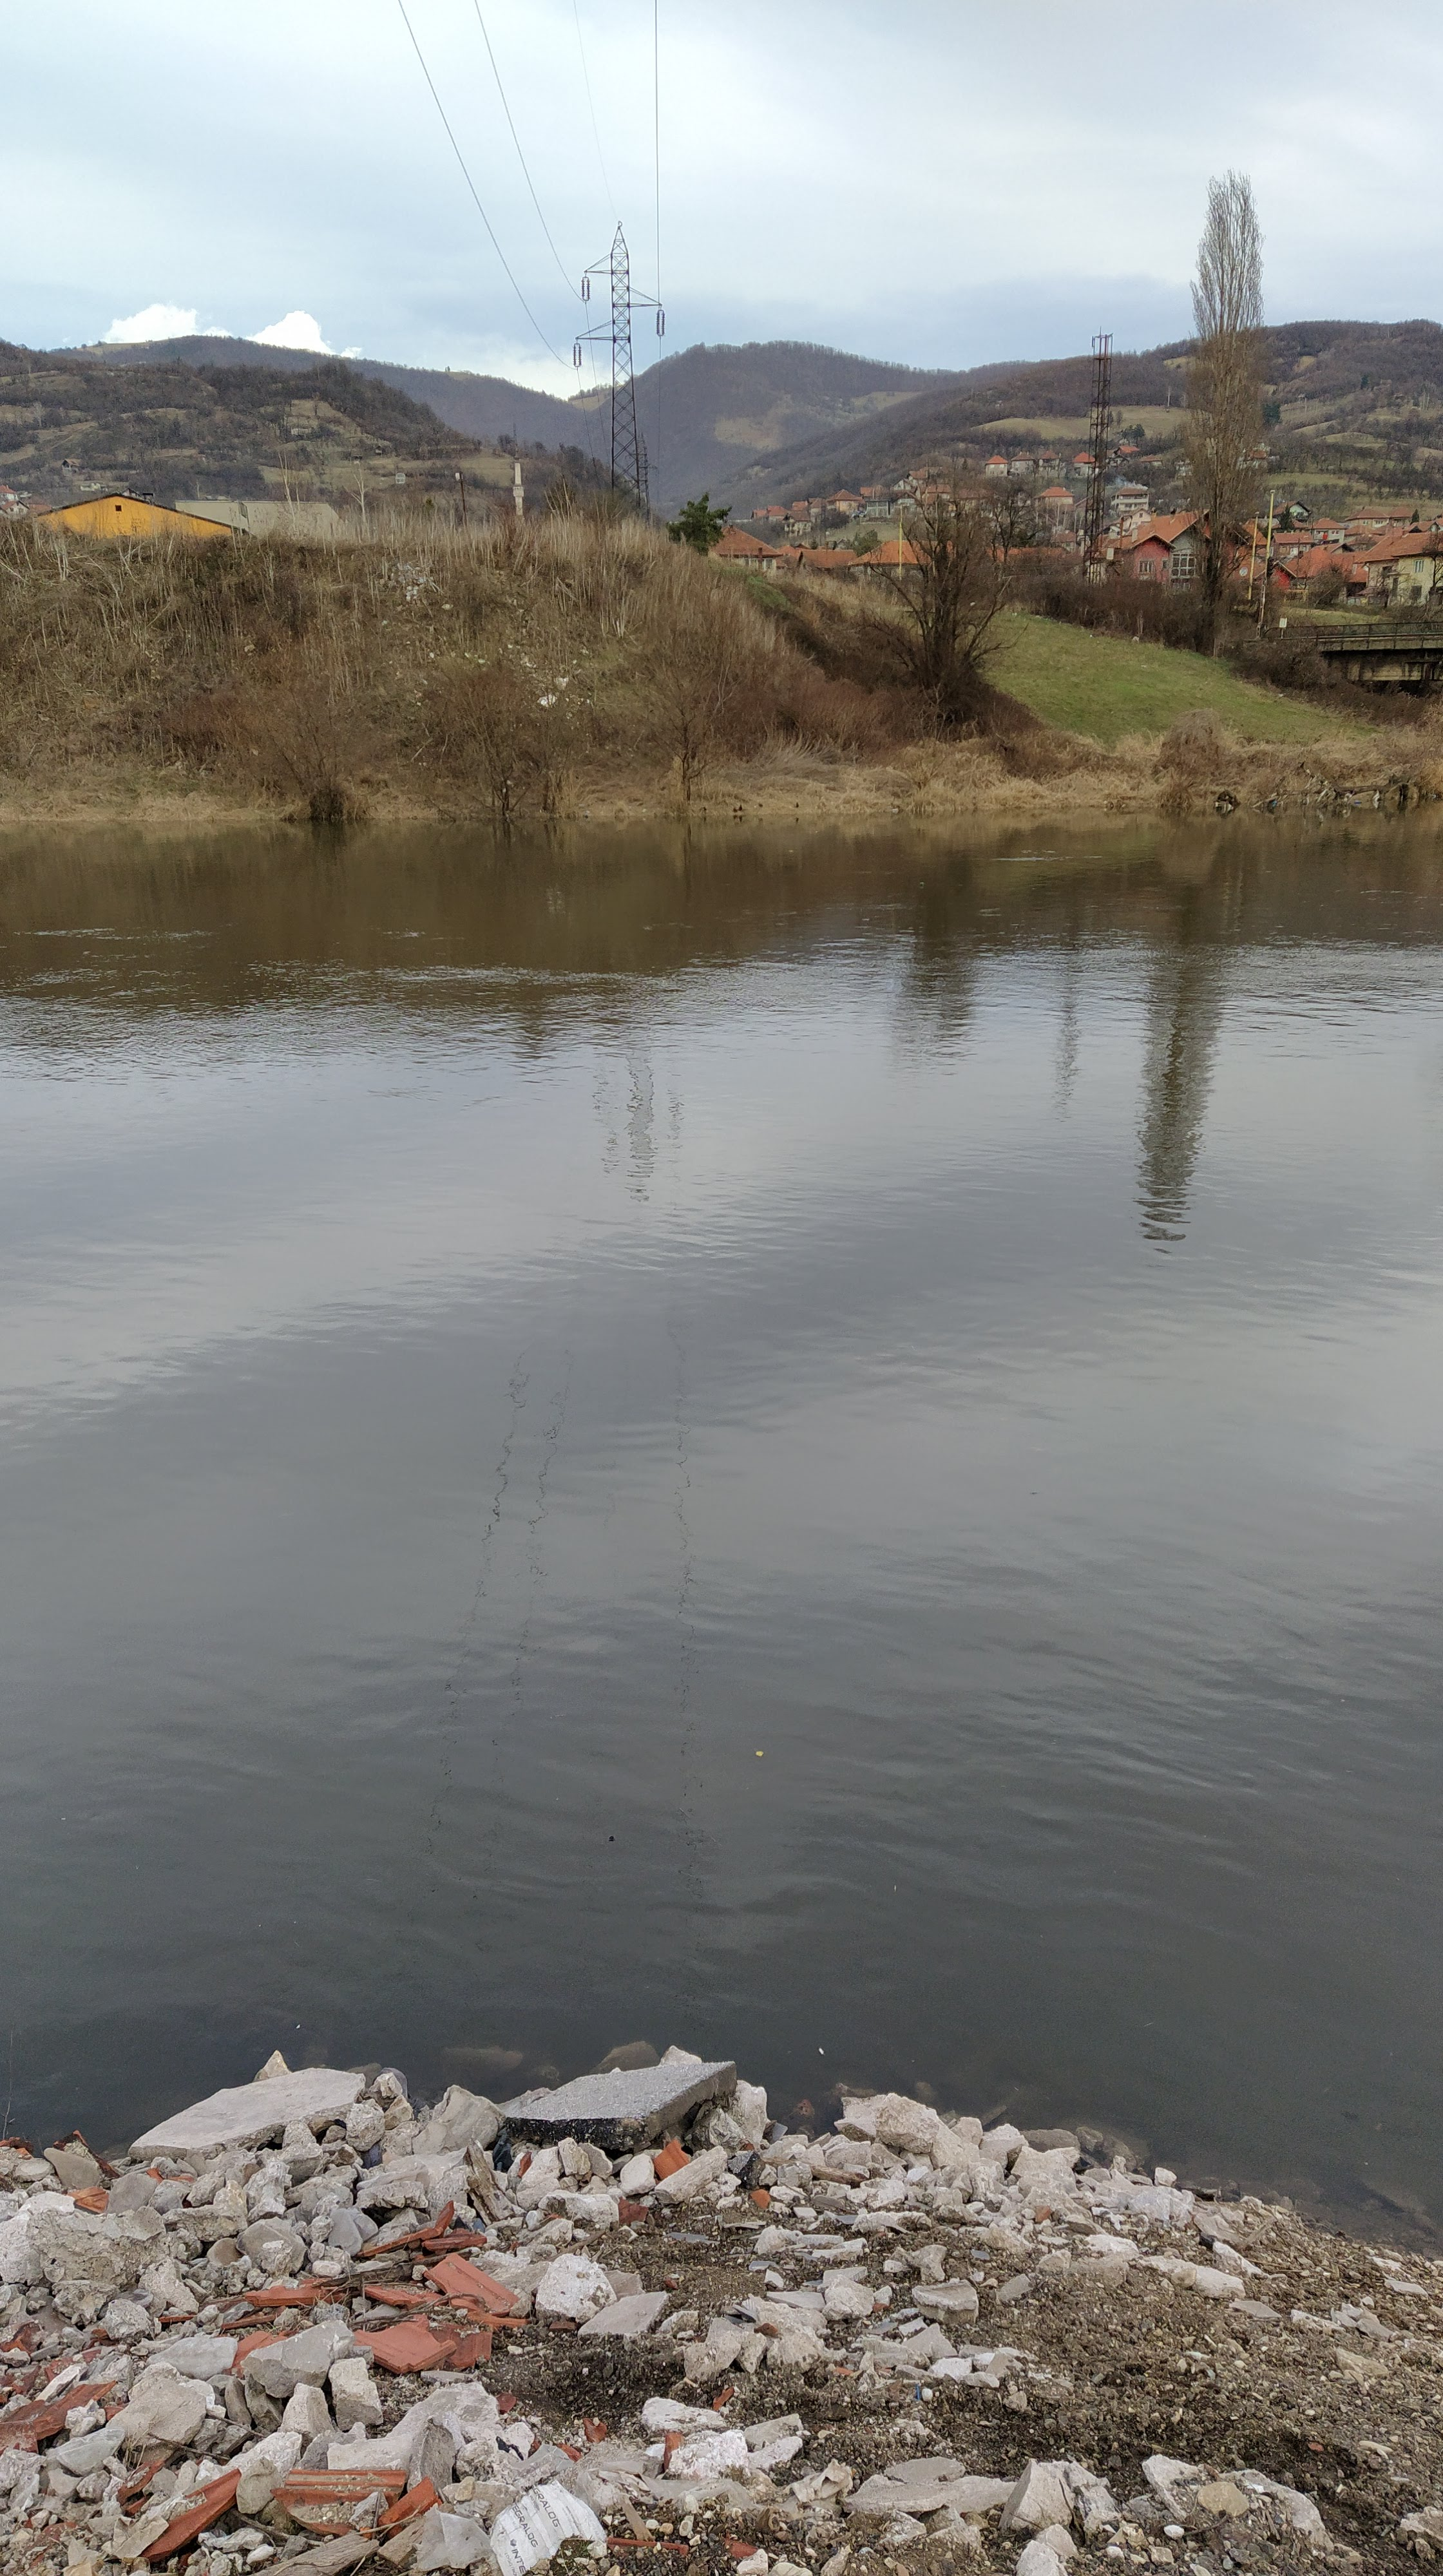Plastic Bottle: (892, 807, 898, 812), (921, 881, 922, 885)
